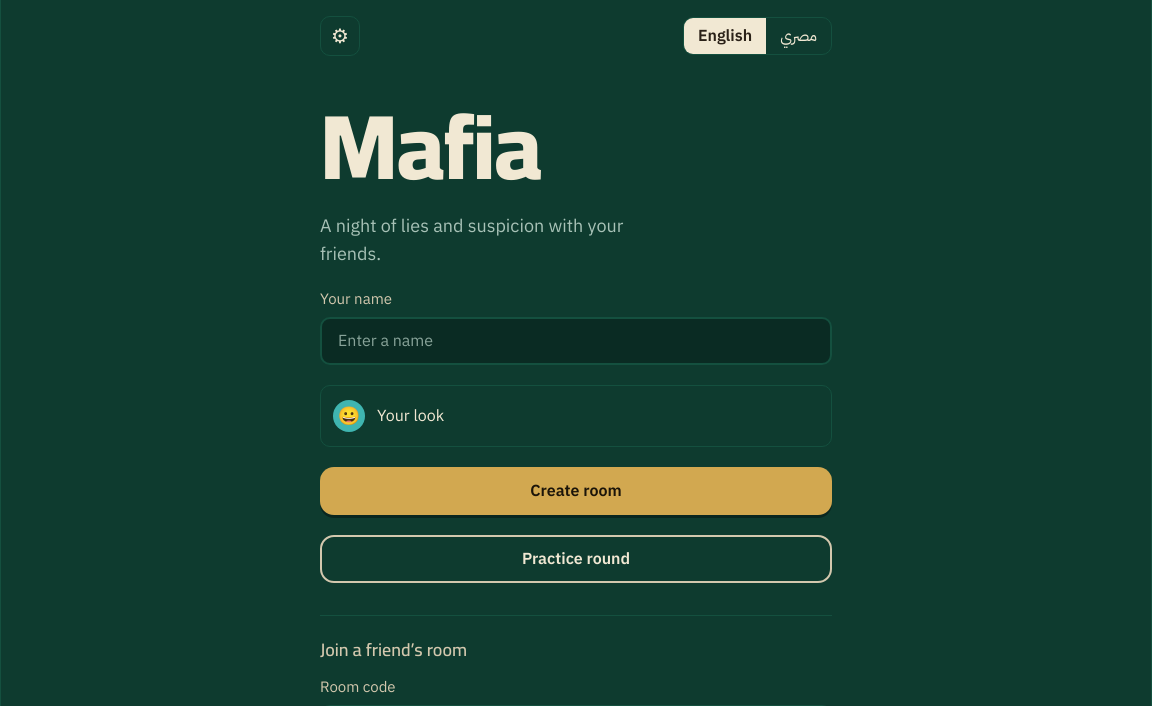
it: home screen › falls back to a generic message for unknown errors
The width and height of the screenshot is (1152, 706).
Type "Sam" into the field labelled "Your name" at (576, 341), box [320,317,832,365]
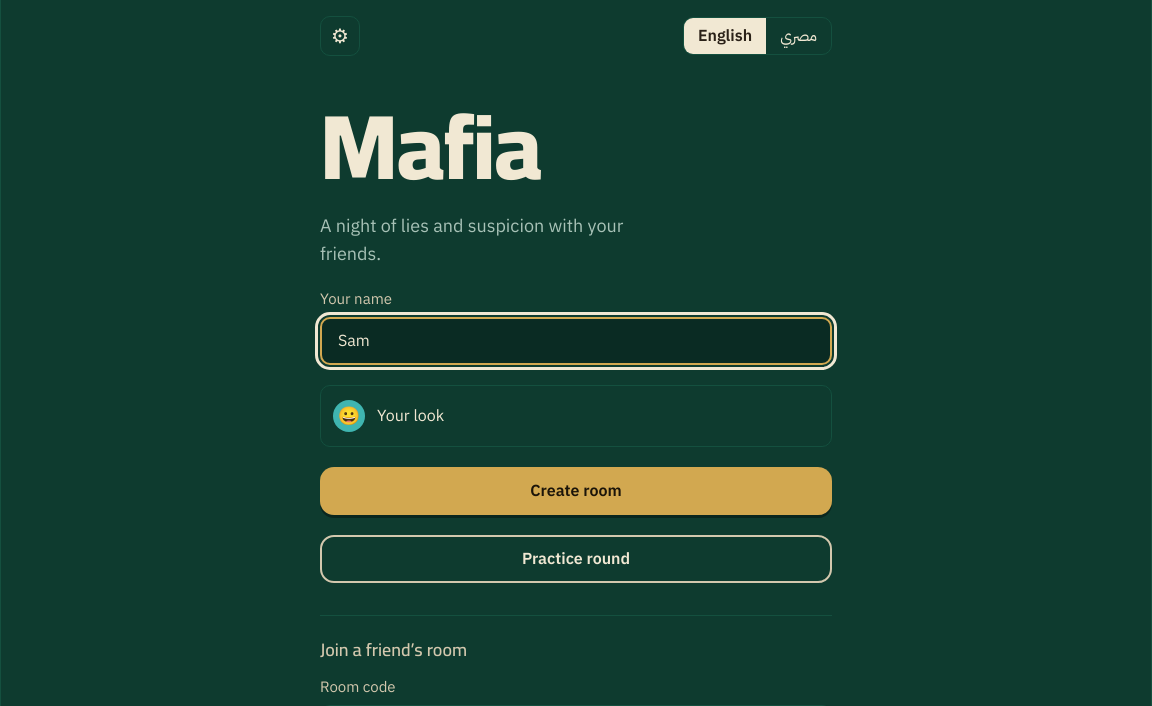
Click the button "Create room" at (576, 491), box [320,467,832,515]
(page scrolled)
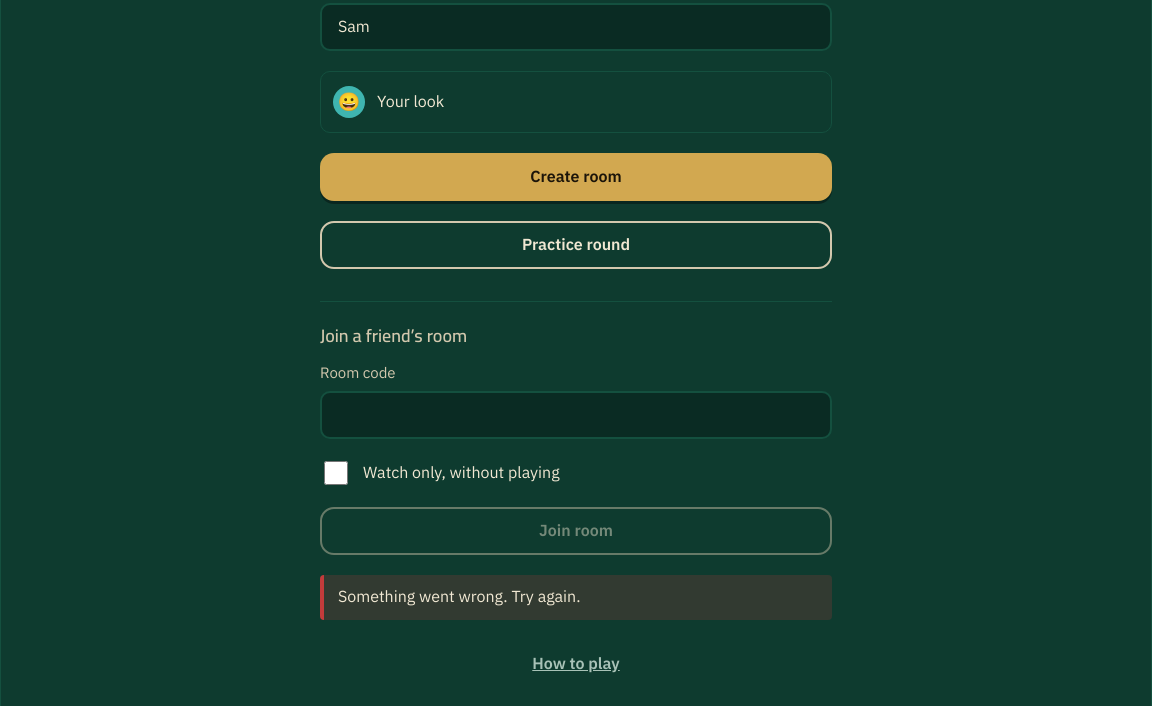
Now the message shows "Something went wrong", box [338,585,581,609]
